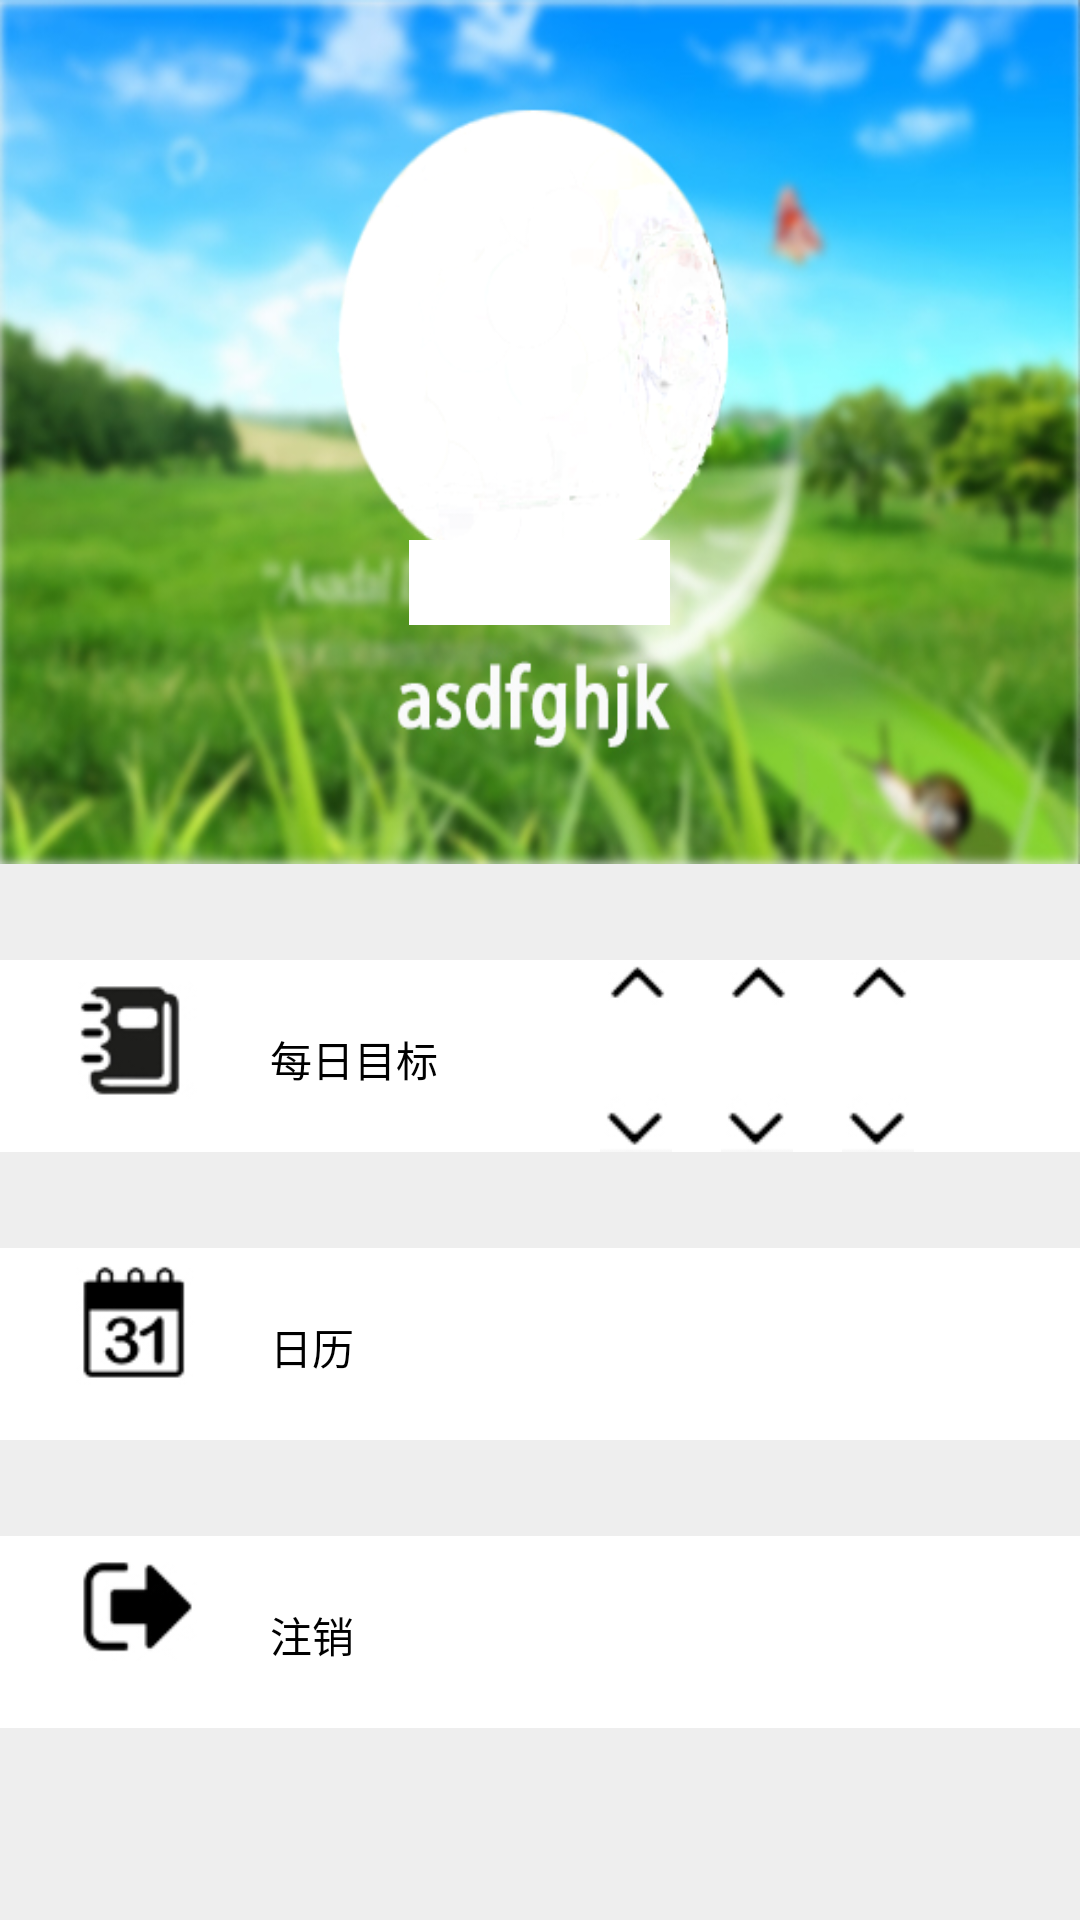

Icon click points for this 1080×1920 phone screenshot, format (x=x, y=y):
settingdown: (x=635, y=1128), (x=756, y=1128), (x=877, y=1128)
settingup: (x=637, y=982), (x=758, y=982), (x=879, y=982)
